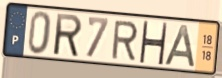0: (27, 10, 53, 57)
7: (86, 15, 111, 61)
A: (162, 23, 198, 70)
H: (137, 19, 169, 67)
R: (53, 12, 84, 59), (110, 20, 140, 62)
